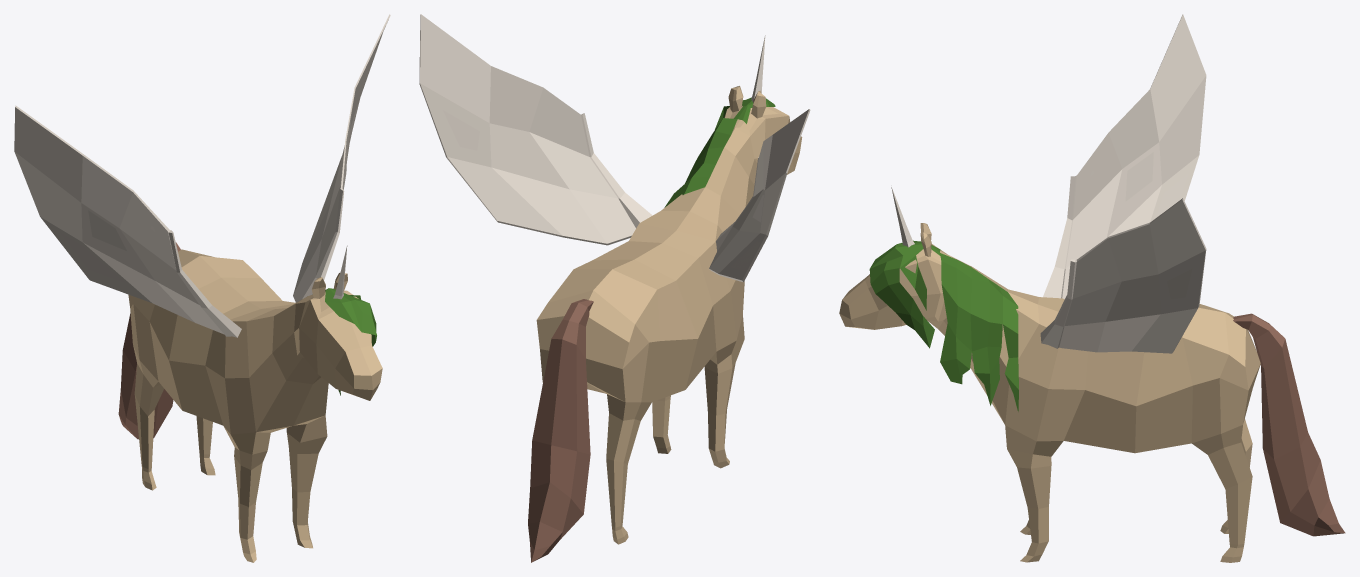
Rendered from Harish.fbx.
3 views of the same model, side by side, from view 1: azimuth 30°, elevation 25°; view 2: azimuth 150°, elevation 25°; view 3: azimuth 270°, elevation 25° (orthographic). The views are drawn at different scales.
Parts seen in each view (by area): view 1: Horse, pPlane4, pPlane5, pPlane6; view 2: Horse, pPlane4, pPlane5, pPlane6; view 3: Horse, pPlane4, pPlane6, pPlane5.
Part boxes in pixels (left/top/right/bottom): Horse: left=128, top=249, right=382, bottom=562; pPlane4: left=14, top=14, right=390, bottom=337; pPlane5: left=118, top=242, right=180, bottom=439; pPlane6: left=325, top=288, right=376, bottom=395; Horse: left=536, top=86, right=802, bottom=544; pPlane4: left=419, top=14, right=810, bottom=282; pPlane5: left=528, top=299, right=593, bottom=562; pPlane6: left=664, top=97, right=775, bottom=207; Horse: left=839, top=223, right=1260, bottom=562; pPlane4: left=1040, top=14, right=1206, bottom=353; pPlane6: left=869, top=240, right=1018, bottom=411; pPlane5: left=1233, top=313, right=1345, bottom=536.
Size of the model in its own units: 4.71 by 5.24 by 5.46.
